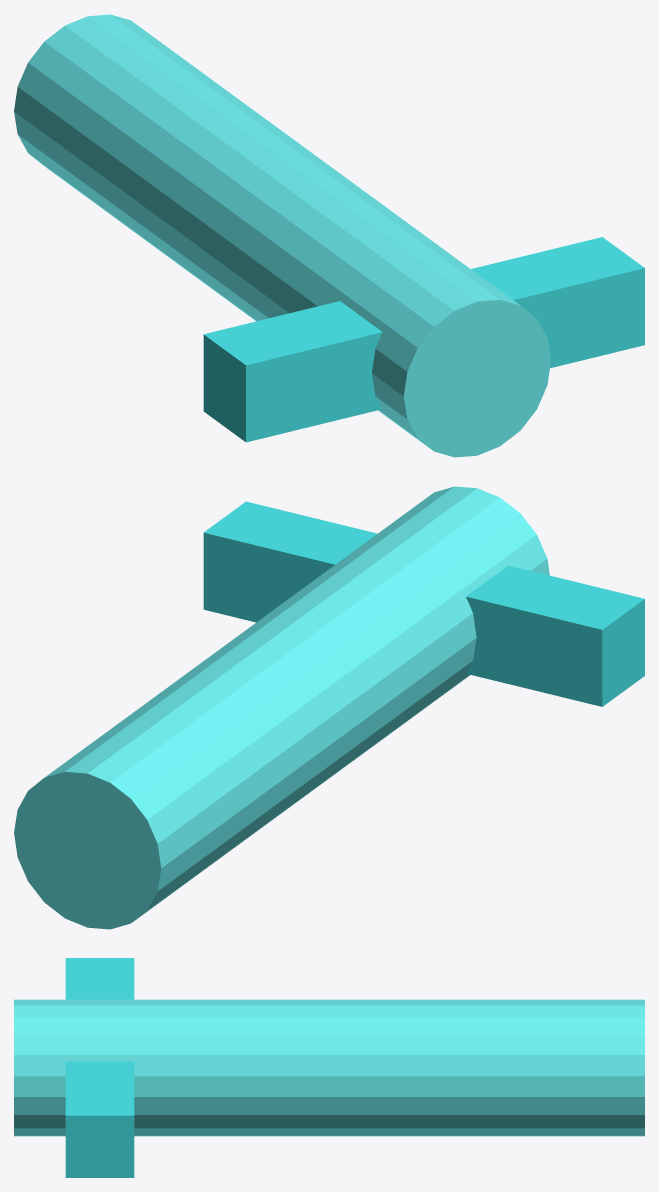
The model's file is water-well-system.glb.
The picture shows the model from 3 angles, top to bottom: view 1: azimuth 30°, elevation 25°; view 2: azimuth 150°, elevation 25°; view 3: azimuth 270°, elevation 25°; orthographic projection. The views are drawn at different scales.
Visible parts, largest first — view 1: world; view 2: world; view 3: world.
Part boxes in pixels (box(x1,y1,x2,y2)): world: box(14, 14, 644, 457); world: box(14, 486, 644, 929); world: box(14, 958, 644, 1177).
Bounding box in the file's own units: 0.65 × 0.24 × 1.1.
